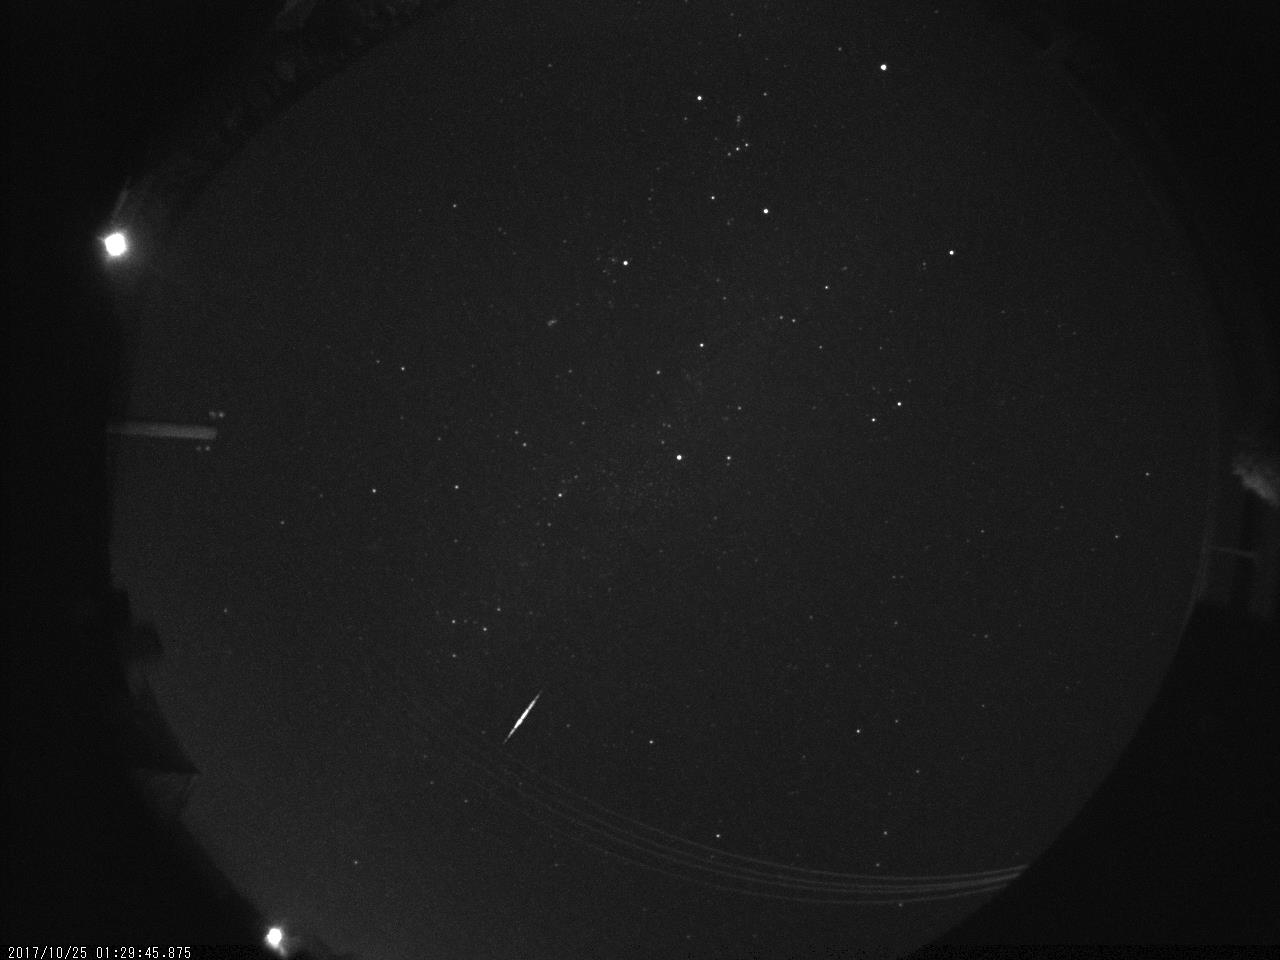meteor: (501, 687, 551, 754)
